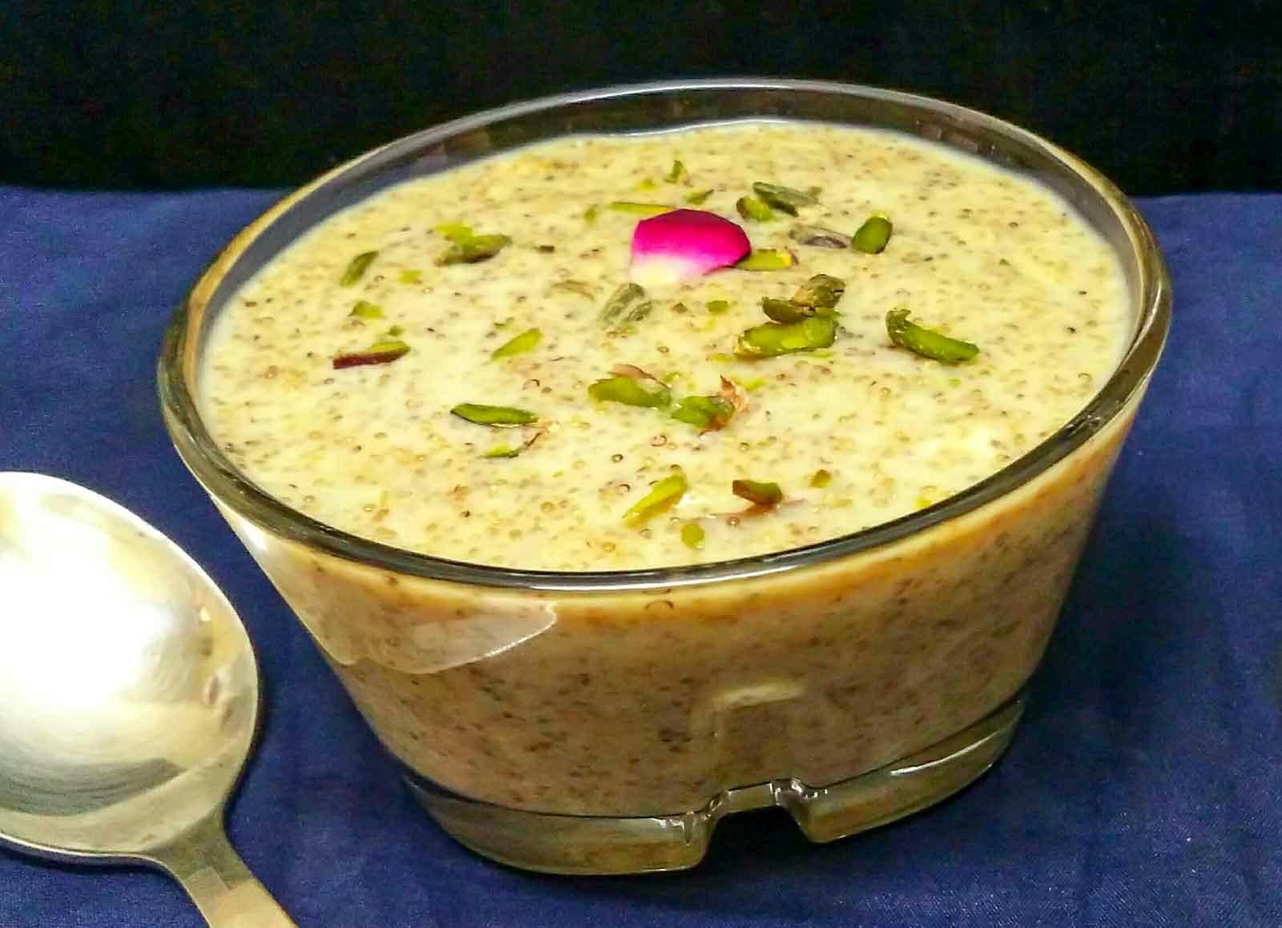Kheer: (205, 119, 1137, 816)
